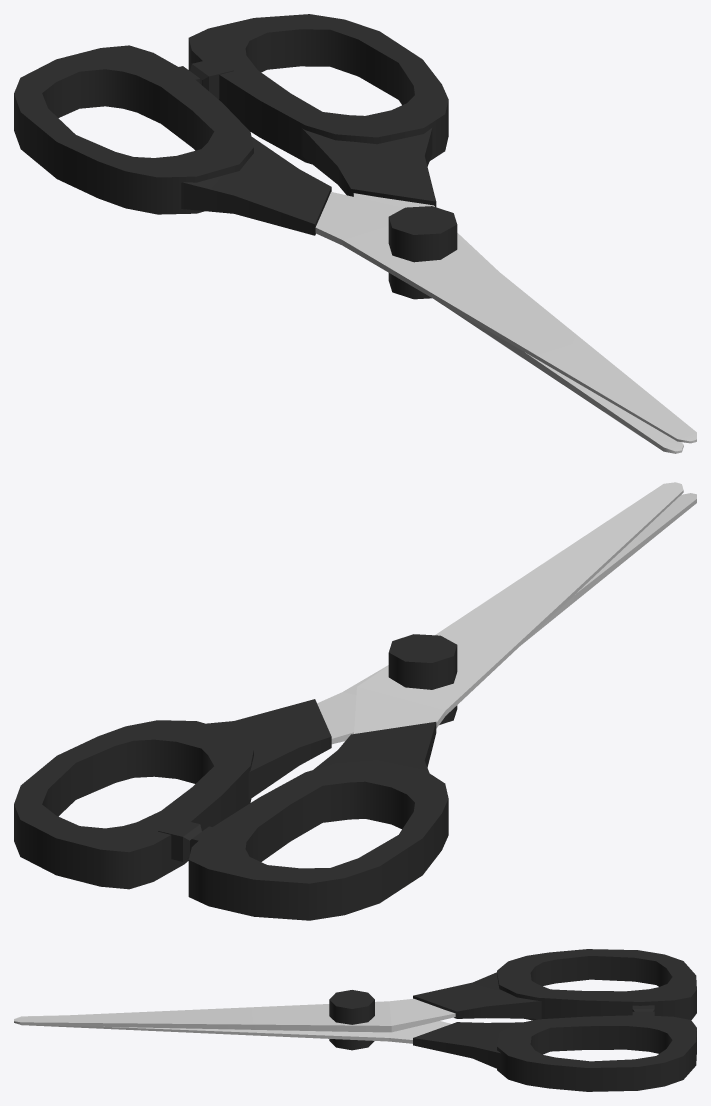
File: Scissors_01.fbx
The picture shows the model from 3 angles, top to bottom: view 1: azimuth 30°, elevation 25°; view 2: azimuth 150°, elevation 25°; view 3: azimuth 270°, elevation 25°; orthographic projection. The views are drawn at different scales.
Parts seen in each view (by area): view 1: Scissors_01, Scissors_01_L; view 2: Scissors_01, Scissors_01_L; view 3: Scissors_01, Scissors_01_L.
Boxes of the visible parts, x1,y1,x2,y2 form: Scissors_01: [14, 45, 696, 443]; Scissors_01_L: [188, 14, 683, 453]; Scissors_01: [188, 482, 683, 920]; Scissors_01_L: [14, 493, 696, 889]; Scissors_01: [14, 949, 696, 1050]; Scissors_01_L: [14, 1011, 696, 1091].
Size of the model in its own units: 0.0791 by 0.0133 by 0.1992.
